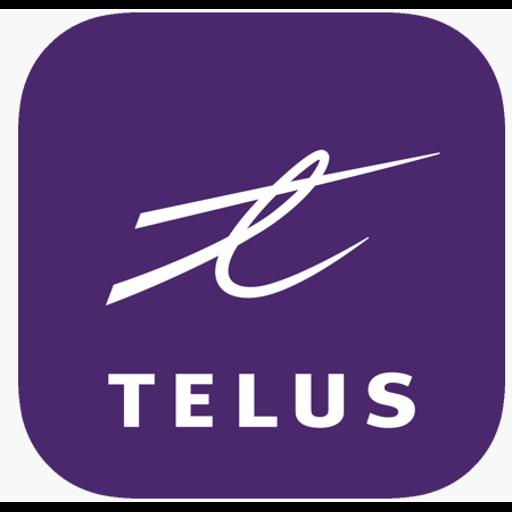Telus: (0, 9, 512, 502)
